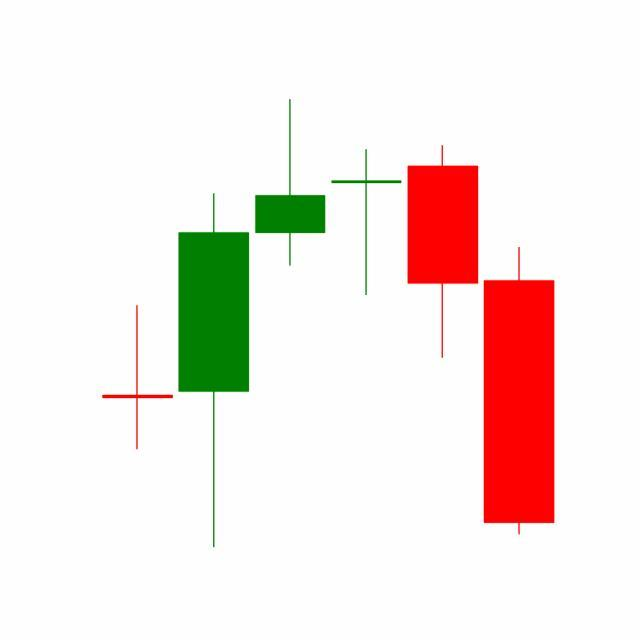Three Outside Up-Down: (326, 141, 555, 540)
